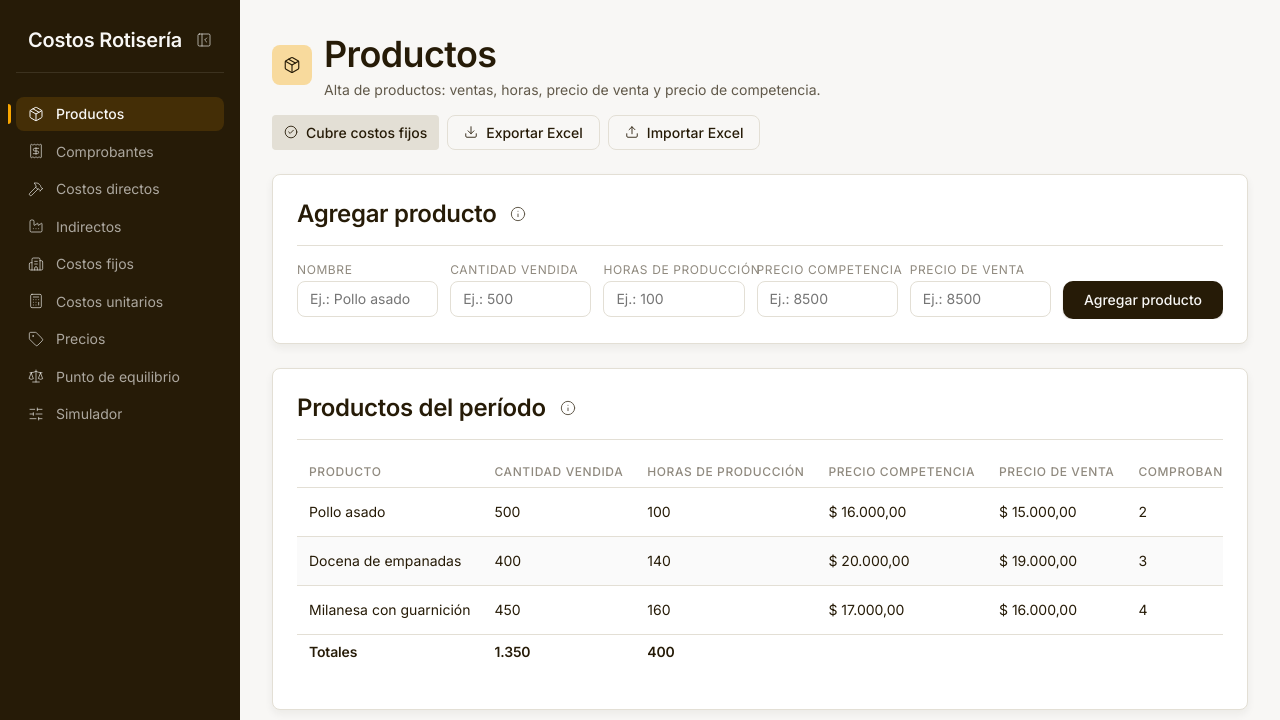
Scenario: App › muestra el control de asignación completo en Comprobantes
The image size is (1280, 720).
Click the button "Comprobantes" at (120, 151), box [16,134,224,168]
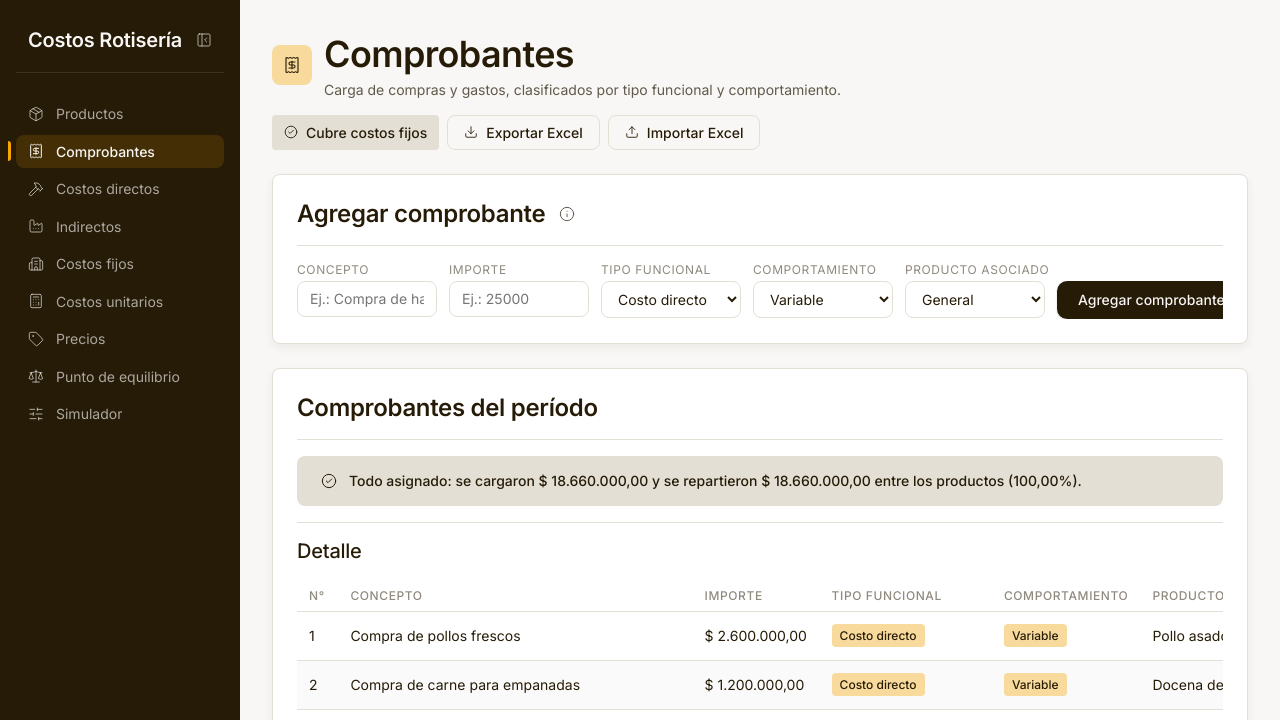
Expected: the text "Todo asignado" is shown, [349,472,539,489]
